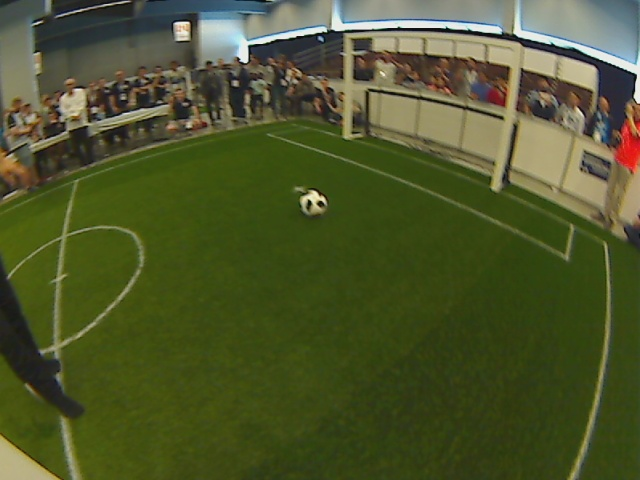ball: (296, 187, 329, 218)
